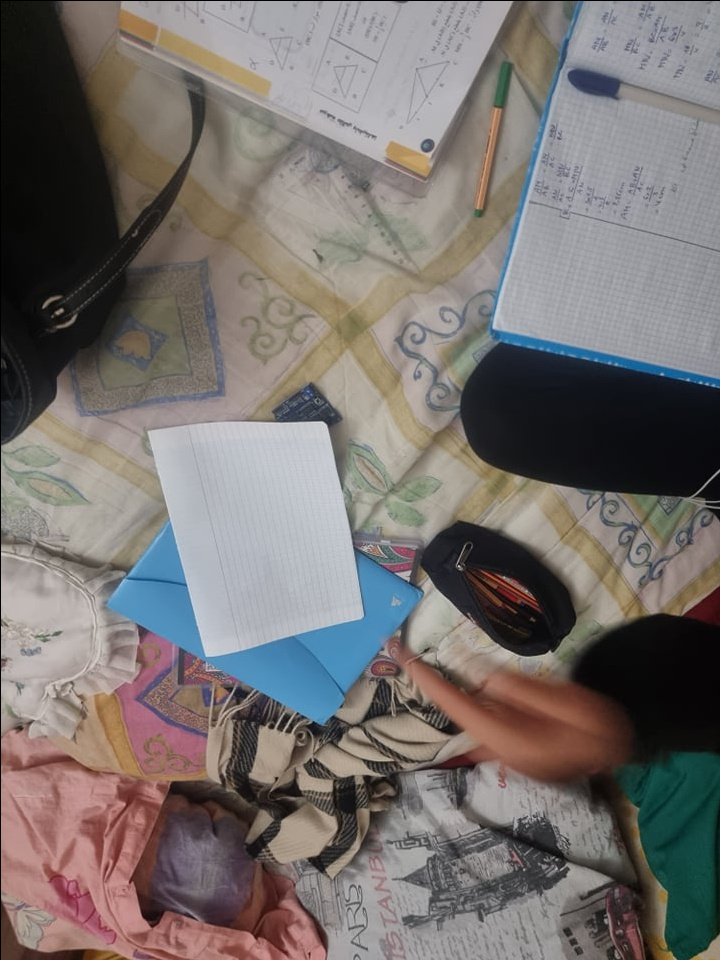5V EXPANSION: (265, 382, 343, 432)
